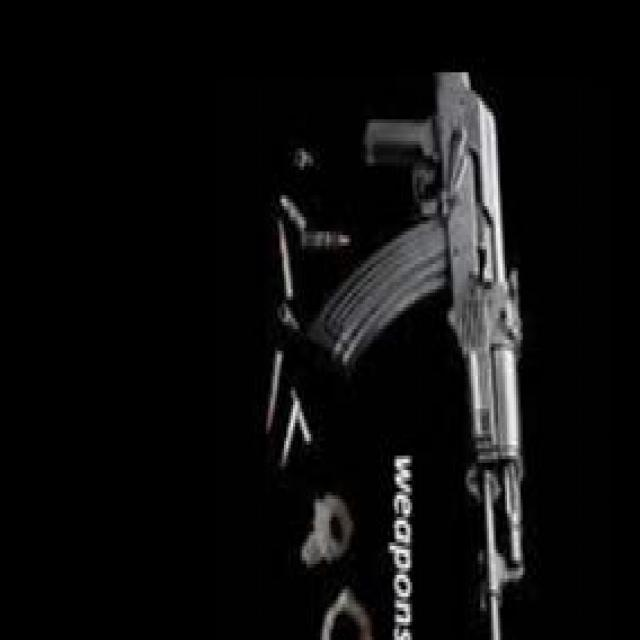weapon: (306, 74, 527, 640)
